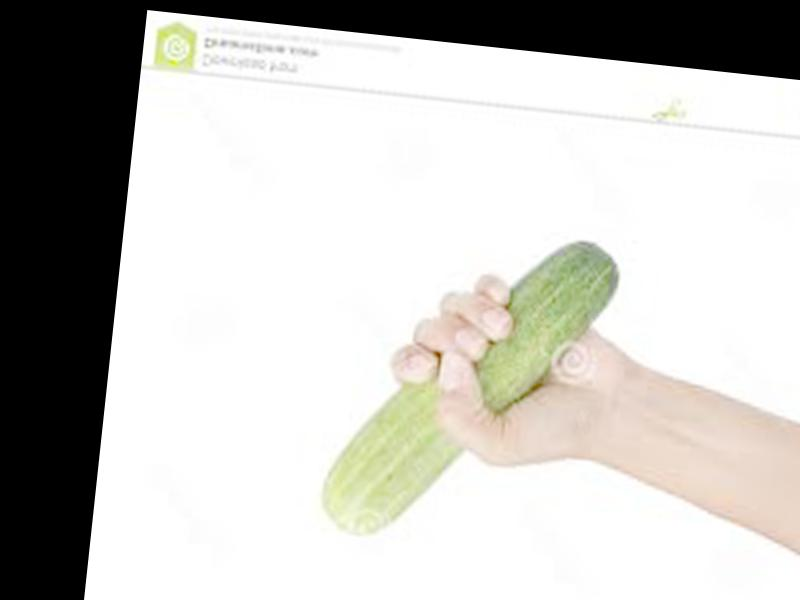Cucumber: (319, 216, 629, 557)
